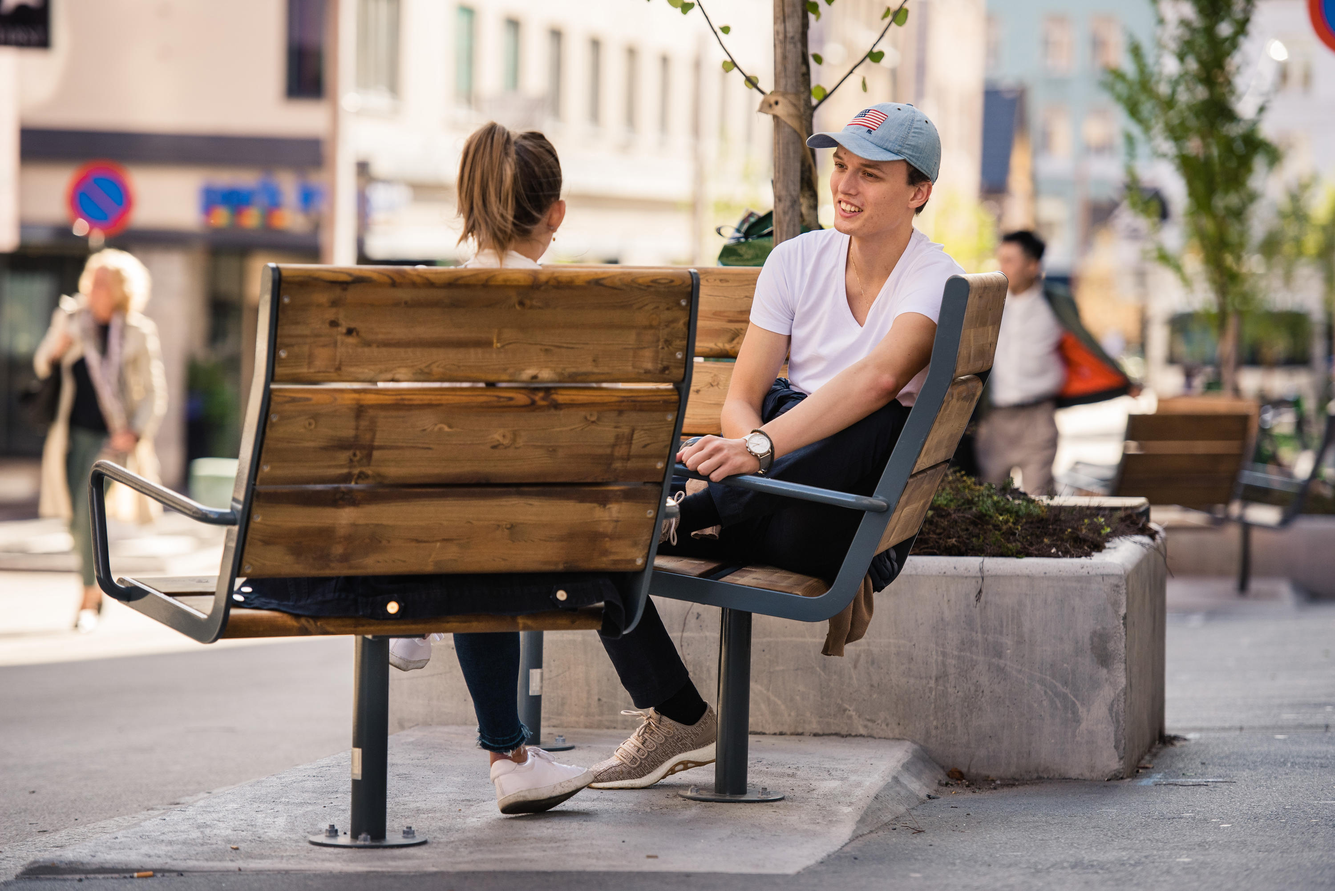Chair: (150, 263, 640, 860)
Person: (720, 115, 941, 496)
